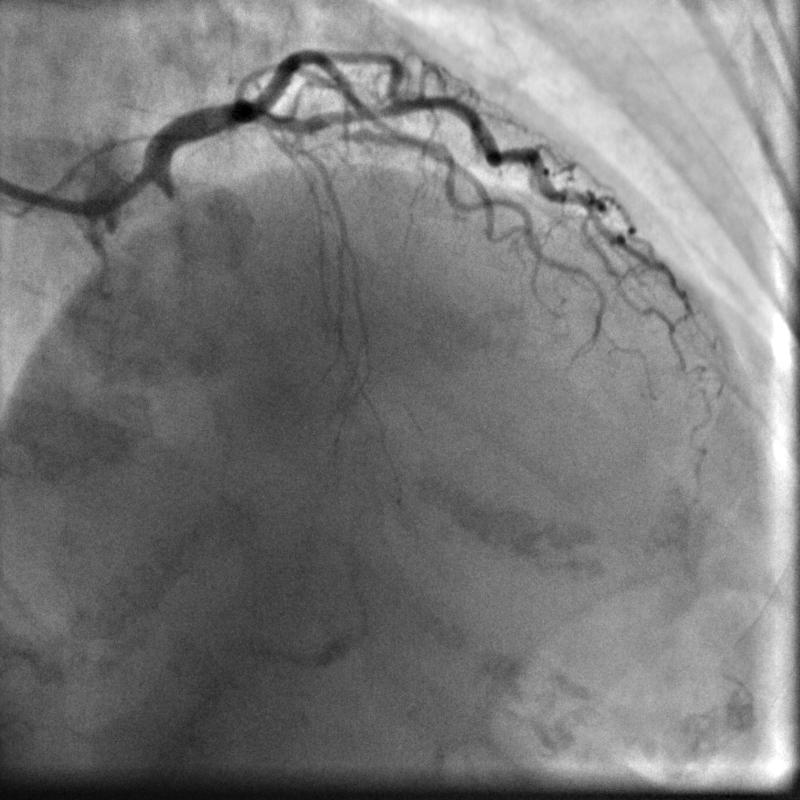Stenosis: (330, 122, 361, 136)
